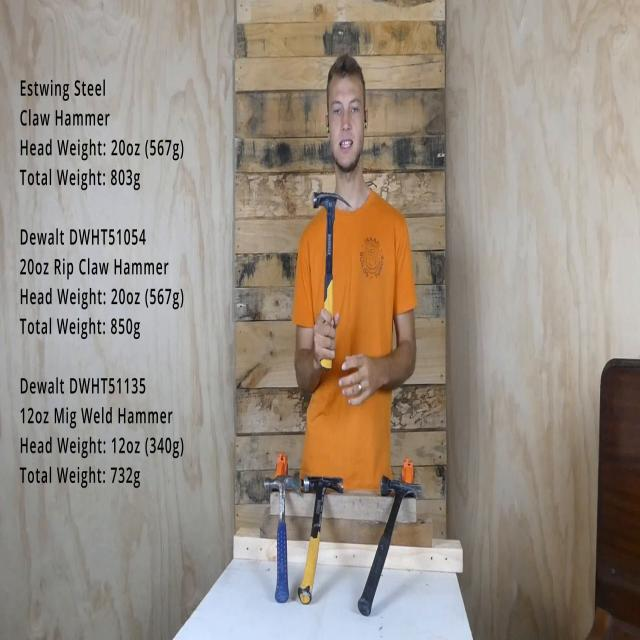hammer: (356, 477, 423, 616), (312, 192, 354, 372), (296, 474, 346, 608), (262, 474, 302, 604)
